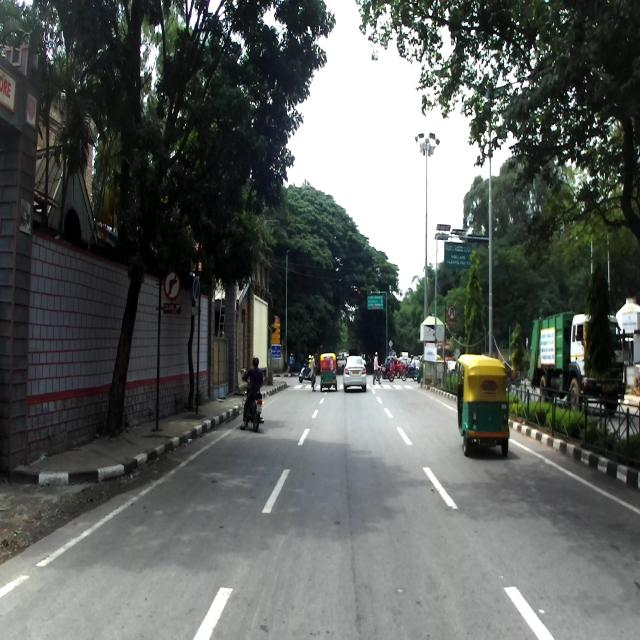Car_Maruti-Suzuki: (342, 352, 367, 393)
autorickshaw: (455, 353, 510, 457)
